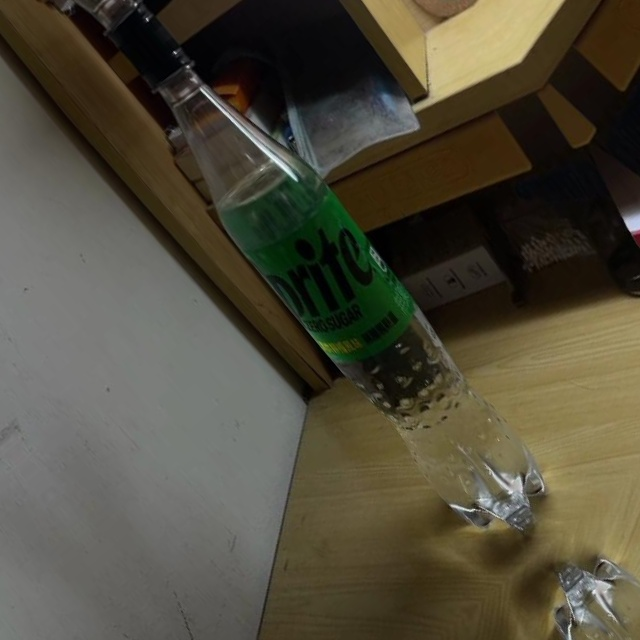Sprite: (101, 16, 579, 556)
